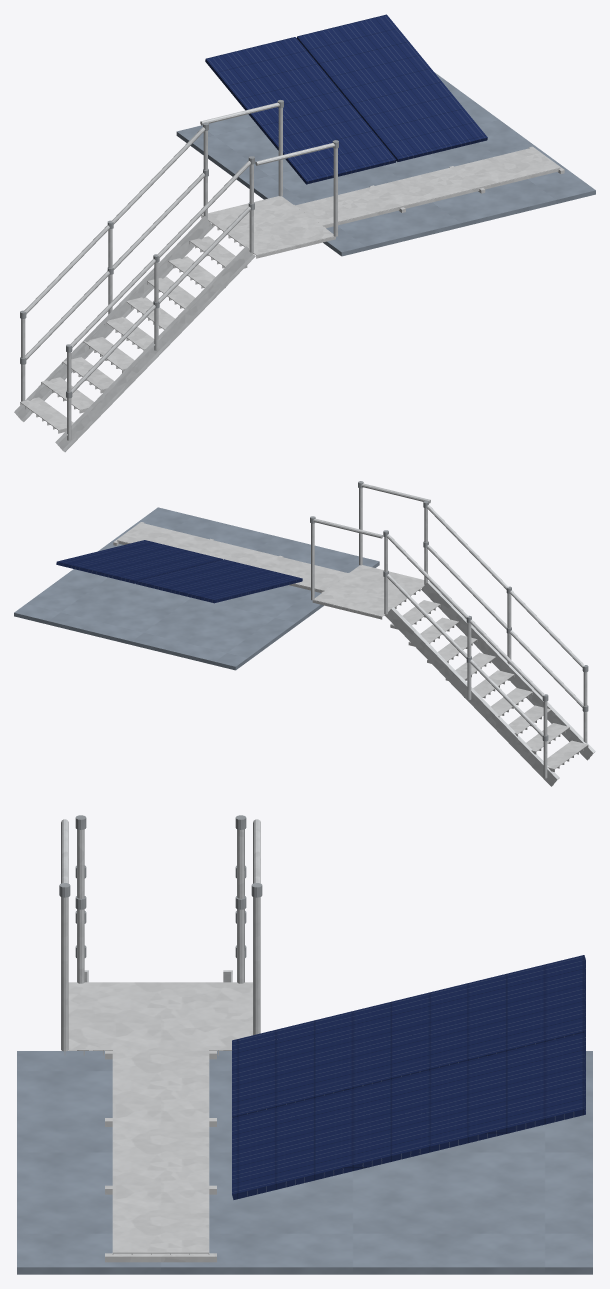
File: solar-walkways-and-stairs.glb
The picture shows the model from 3 angles, top to bottom: view 1: azimuth 30°, elevation 25°; view 2: azimuth 150°, elevation 25°; view 3: azimuth 270°, elevation 25°; orthographic projection. The views are drawn at different scales.
Parts seen in each view (by area): view 1: SolarModules(context), Roof(context), GratedTreads&Landing, Grip-StrutWalkway, StairStringers, Handrails, HandrailPosts, ClampFittings; view 2: Roof(context), SolarModules(context), GratedTreads&Landing, StairStringers, Handrails, Grip-StrutWalkway, HandrailPosts, ClampFittings; view 3: Roof(context), SolarModules(context), Grip-StrutWalkway, GratedTreads&Landing, HandrailPosts, ClampFittings, Handrails.
Boxes of the visible parts, x1=… form: SolarModules(context): x1=205, y1=14, x2=487, y2=184; Roof(context): x1=176, y1=72, x2=595, y2=256; GratedTreads&Landing: x1=20, y1=196, x2=335, y2=433; Grip-StrutWalkway: x1=294, y1=146, x2=564, y2=228; StairStringers: x1=14, y1=216, x2=255, y2=452; Handrails: x1=24, y1=102, x2=334, y2=393; HandrailPosts: x1=21, y1=108, x2=337, y2=440; ClampFittings: x1=20, y1=100, x2=338, y2=398; Roof(context): x1=14, y1=507, x2=379, y2=670; SolarModules(context): x1=56, y1=540, x2=302, y2=603; GratedTreads&Landing: x1=312, y1=565, x2=588, y2=771; StairStringers: x1=385, y1=581, x2=595, y2=786; Handrails: x1=313, y1=483, x2=584, y2=737; Grip-StrutWalkway: x1=113, y1=522, x2=349, y2=593; HandrailPosts: x1=311, y1=488, x2=587, y2=778; ClampFittings: x1=310, y1=481, x2=588, y2=741; Roof(context): x1=17, y1=1051, x2=592, y2=1274; SolarModules(context): x1=232, y1=955, x2=585, y2=1199; Grip-StrutWalkway: x1=105, y1=1049, x2=216, y2=1262; GratedTreads&Landing: x1=64, y1=982, x2=252, y2=1055; HandrailPosts: x1=61, y1=829, x2=260, y2=1051; ClampFittings: x1=59, y1=815, x2=262, y2=957; Handrails: x1=61, y1=819, x2=260, y2=981.
Size of the model in its own units: 6.55 by 3 by 3.6.
5 materials, 5 textured.
